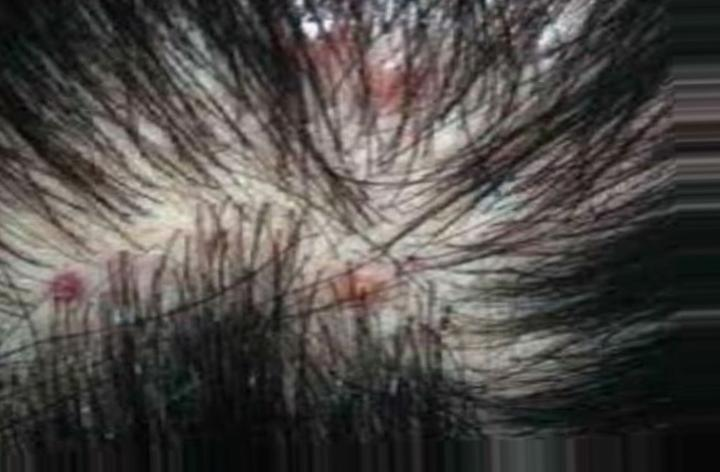Folliculitis: (280, 8, 468, 138), (327, 271, 403, 305), (46, 269, 93, 303)
